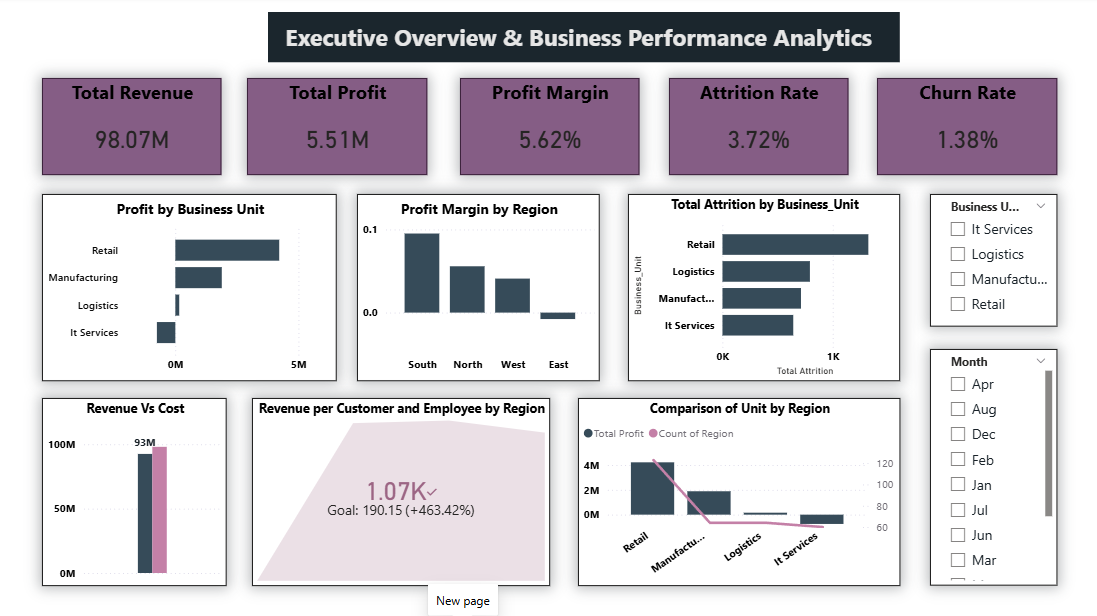

What the dashboard file says about the page in this screenshot:
{"tool":"powerbi","page":{"name":"BUSINESS PERFORMANCE ANALYTICS","canvas":[1280,720],"ordinal":0},"visuals":[{"type":"textbox","box":[315,17.3,729.2,57.7],"z":0},{"type":"card","title":"Total Revenue","fields":{"Values":["Cleaned_Business_Performance_Dataset_001.Total Revenue"]},"box":[54,93.8,206.9,111.8],"z":1000},{"type":"card","title":"Total Profit","fields":{"Values":["Cleaned_Business_Performance_Dataset_001.Total Profit"]},"box":[290.8,93.5,207.7,111.9],"z":2000},{"type":"card","title":"Profit Margin","fields":{"Values":["Cleaned_Business_Performance_Dataset_001.Profit Margin %"]},"box":[536.5,93.5,206.5,111.9],"z":3000},{"type":"card","title":"Attrition Rate","fields":{"Values":["Cleaned_Business_Performance_Dataset_001.Attrtion Rate %"]},"box":[777.7,93.5,206.5,111.9],"z":4000},{"type":"card","title":"Churn Rate","fields":{"Values":["Cleaned_Business_Performance_Dataset_001.Customer Churn Rate %"]},"box":[1017.7,93.5,207.7,111.9],"z":5000},{"type":"clusteredBarChart","title":"Profit by Business Unit","fields":{"Category":["Cleaned_Business_Performance_Dataset_001.Business_Unit"],"Y":["Cleaned_Business_Performance_Dataset_001.Total Profit"]},"box":[54.2,227.3,340.4,215.8],"z":6000},{"type":"columnChart","title":"Profit Margin by Region","fields":{"Y":["Cleaned_Business_Performance_Dataset_001.Profit Margin %"],"Category":["Cleaned_Business_Performance_Dataset_001.Region"]},"box":[417.7,227.3,280.4,215.8],"z":7000},{"type":"slicer","fields":{"Values":["Cleaned_Business_Performance_Dataset_001.Business_Unit"]},"box":[1078.8,227.3,146.5,153.5],"z":8000},{"type":"slicer","fields":{"Values":["Date_Table.Month"]},"box":[1078.8,406.2,146.5,273.5],"z":9000},{"type":"clusteredColumnChart","title":"Revenue Vs Cost","fields":{"Y":["Cleaned_Business_Performance_Dataset_001.Total Cost","Cleaned_Business_Performance_Dataset_001.Total Revenue"]},"box":[54.2,462.7,213.5,216.9],"z":10000},{"type":"lineClusteredColumnComboChart","title":"Comparison of Unit by Region","fields":{"Category":["Cleaned_Business_Performance_Dataset_001.Business_Unit"],"Y":["Cleaned_Business_Performance_Dataset_001.Total Profit"],"Y2":["CountNonNull(Cleaned_Business_Performance_Dataset_001.Region)"]},"box":[672.7,462.7,371.5,216.9],"z":11000},{"type":"kpi","title":"Revenue per Customer and Employee by Region","fields":{"Indicator":["Cleaned_Business_Performance_Dataset_001.Revenue per Emp"],"Goal":["Cleaned_Business_Performance_Dataset_001.Revenue per Customer"],"TrendLine":["Cleaned_Business_Performance_Dataset_001.Region"]},"box":[296.5,462.7,343.8,216.9],"z":12000},{"type":"barChart","fields":{"Category":["Cleaned_Business_Performance_Dataset_001.Business_Unit"],"Y":["Cleaned_Business_Performance_Dataset_001.Total Attrition"]},"box":[730.4,227.3,313.8,215.8],"z":13000}]}

Visuals, with their boxes in screenshot pixels (x1, y1, x2, y2), scaled from the page's 1280x720 canvas onto the 1097x616 screenshot:
textbox: 270:15:895:64
"Total Revenue" card: 46:80:224:176
"Total Profit" card: 249:80:427:176
"Profit Margin" card: 460:80:637:176
"Attrition Rate" card: 667:80:843:176
"Churn Rate" card: 872:80:1050:176
"Profit by Business Unit" clusteredBarChart: 46:194:338:379
"Profit Margin by Region" columnChart: 358:194:598:379
slicer - Cleaned_Business_Performance_Dataset_001.Business_Unit: 925:194:1050:326
slicer - Date_Table.Month: 925:348:1050:582
"Revenue Vs Cost" clusteredColumnChart: 46:396:229:581
"Comparison of Unit by Region" lineClusteredColumnComboChart: 577:396:895:581
"Revenue per Customer and Employee by Region" kpi: 254:396:549:581
barChart - Cleaned_Business_Performance_Dataset_001.Business_Unit x Cleaned_Business_Performance_Dataset_001.Total Attrition: 626:194:895:379
